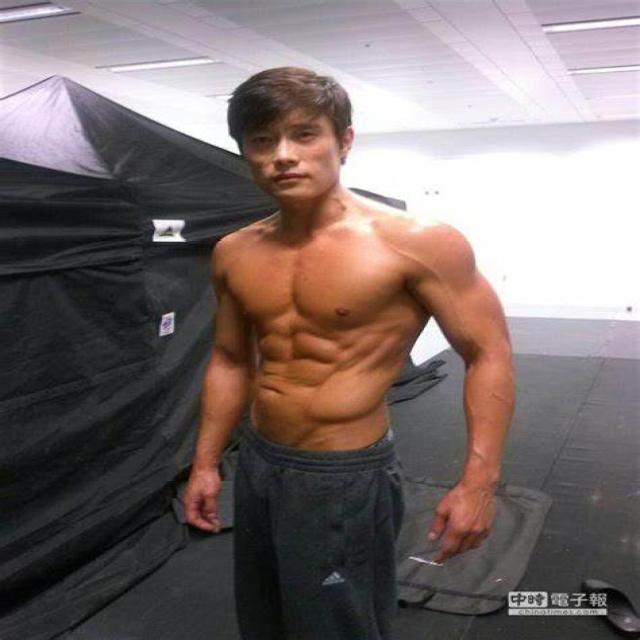stand: (187, 59, 495, 640)
